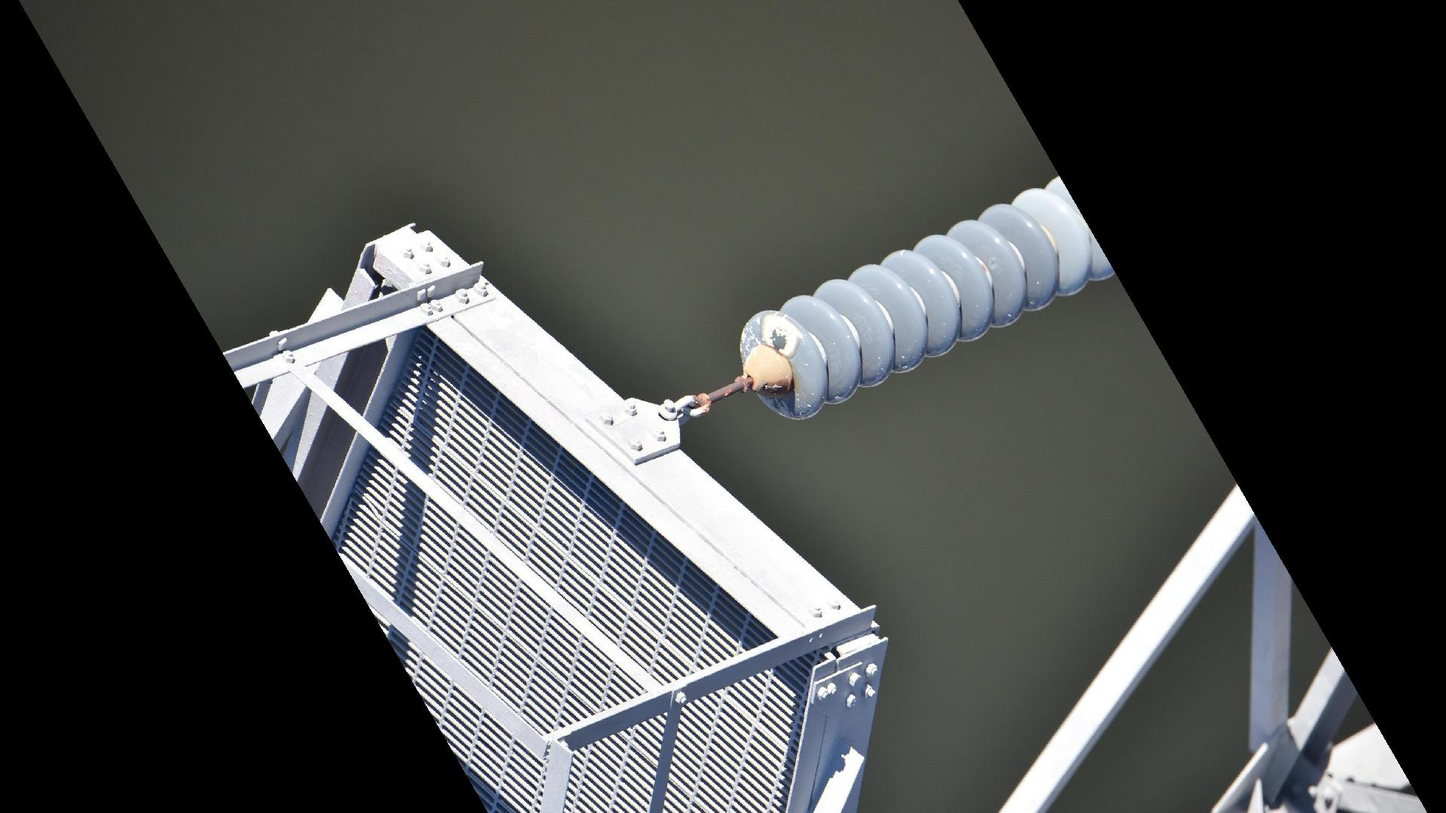insulator: (737, 172, 1118, 425)
insulator_flashover: (758, 309, 802, 361)
